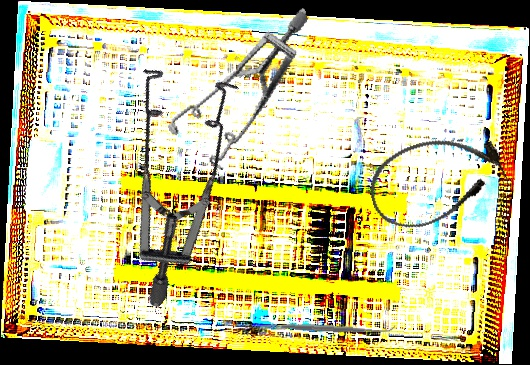Cannula: (359, 121, 514, 239)
Spatula Surgical: (251, 316, 397, 340)
Speculum: (30, 33, 302, 311), (146, 6, 343, 182)
